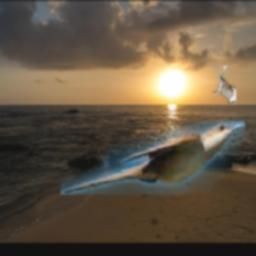Cuckoo: (62, 121, 246, 195), (214, 66, 237, 105)
